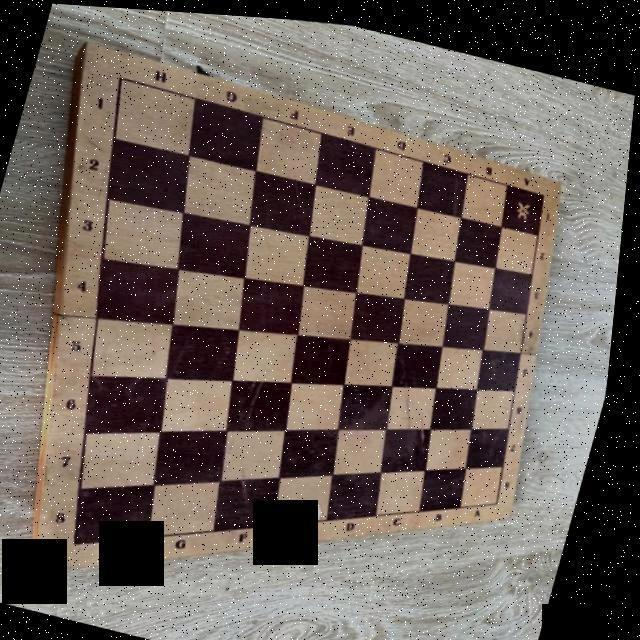chess-table-corners: (72, 530, 99, 551), (110, 65, 134, 87), (534, 178, 560, 196), (496, 484, 514, 504)
